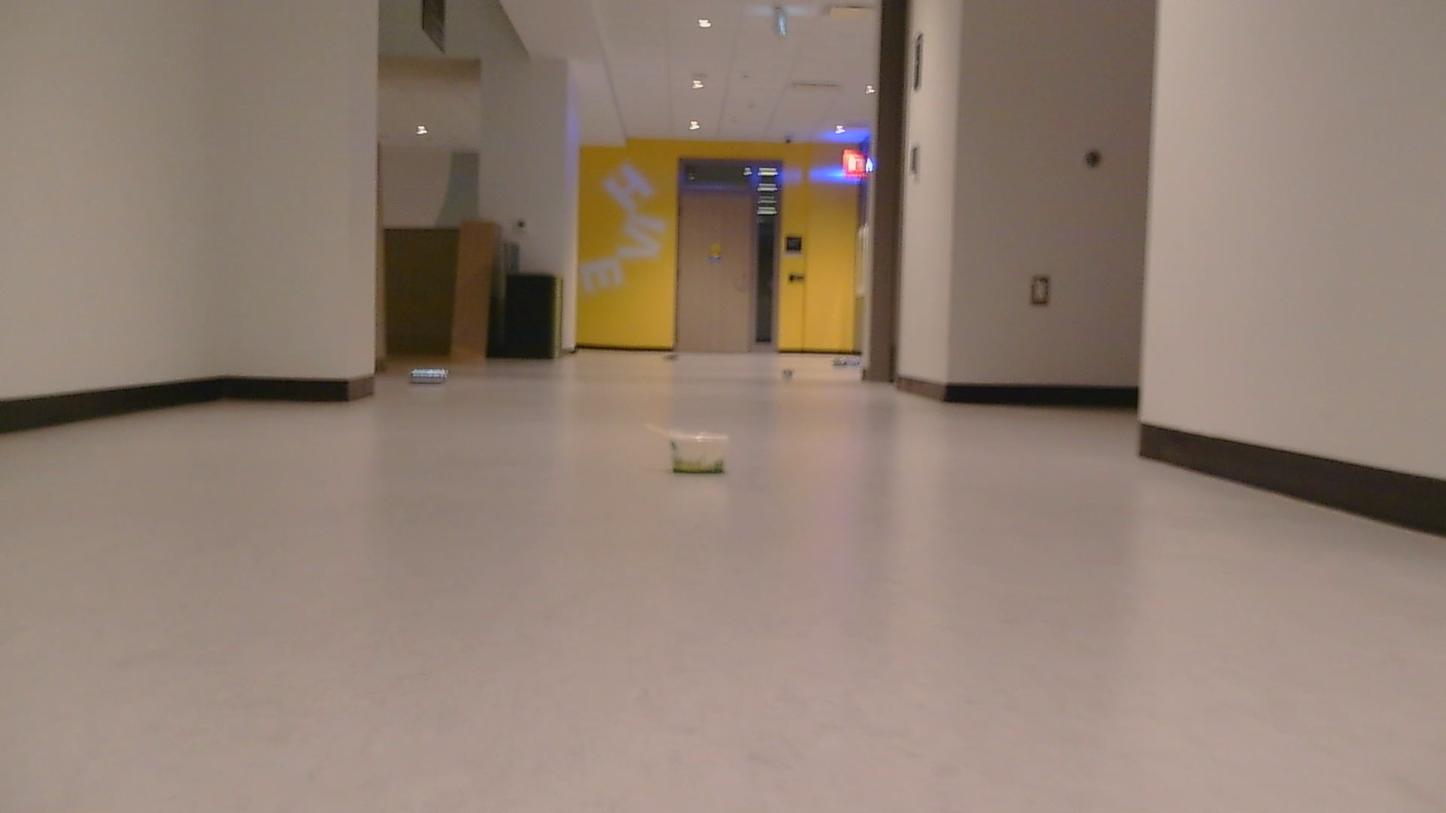carton: (664, 419, 740, 472), (411, 358, 470, 391), (831, 348, 863, 368), (660, 348, 677, 363), (785, 364, 791, 380)
